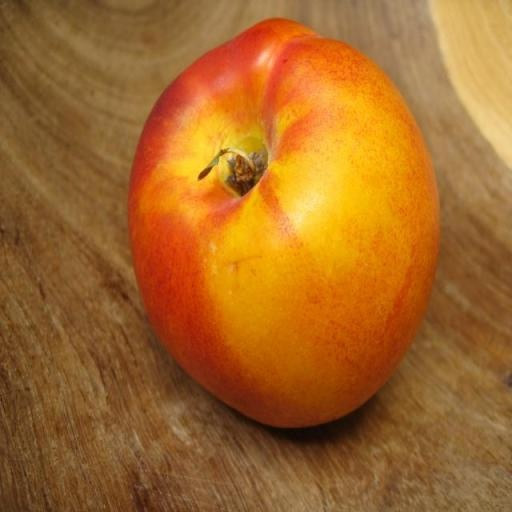fruit: (396, 99, 482, 409)
